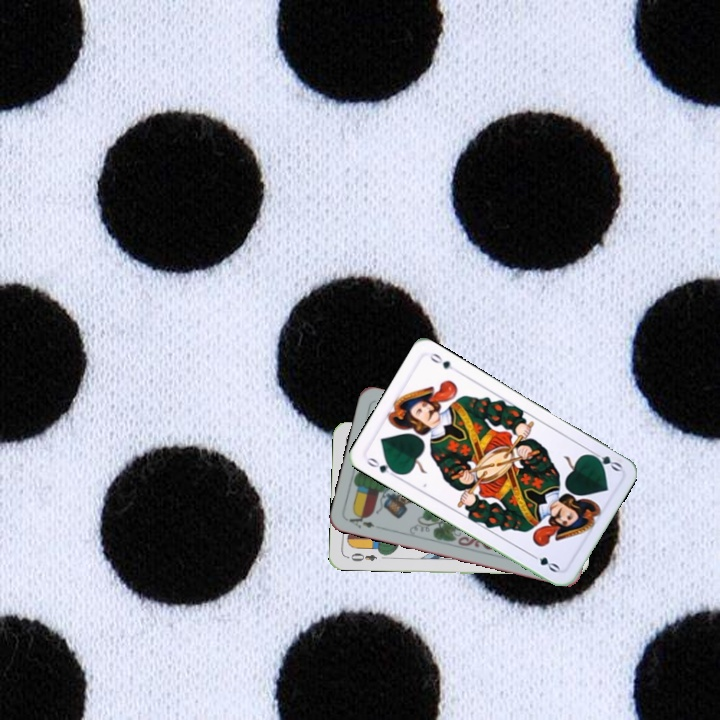EA: (345, 510, 377, 531)
EO: (343, 549, 379, 564)
GO: (585, 446, 624, 474), (362, 453, 401, 477)
